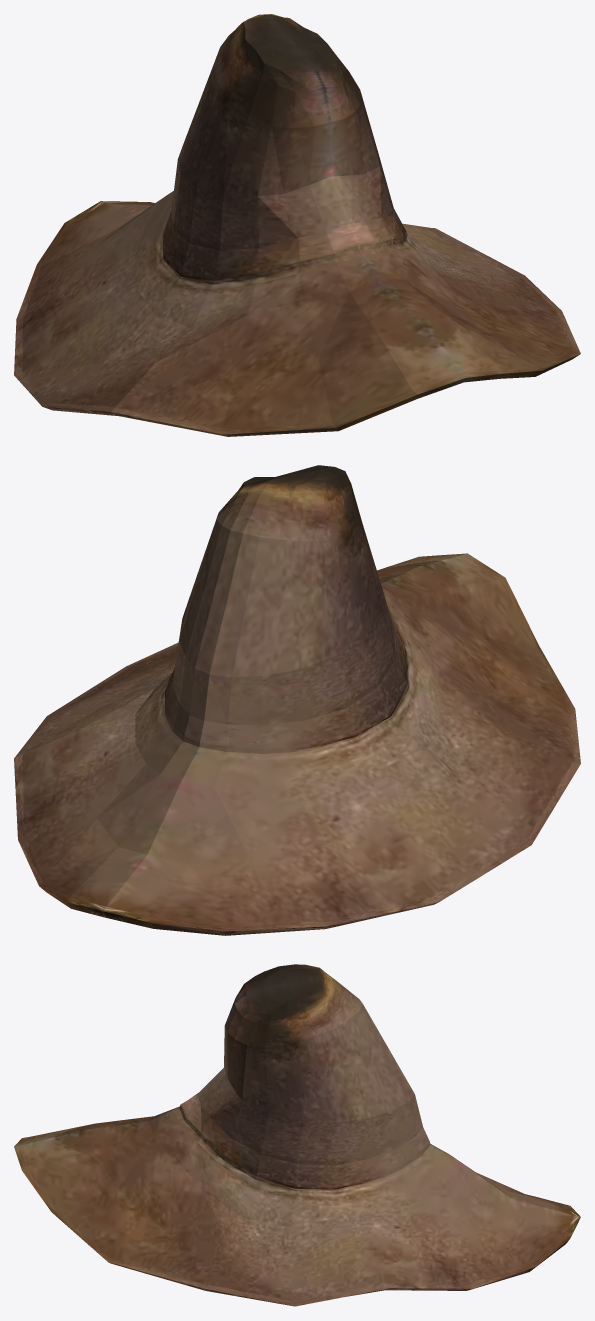
The model's file is CZAPKA.glb.
The picture shows the model from 3 angles, top to bottom: view 1: azimuth 30°, elevation 25°; view 2: azimuth 150°, elevation 25°; view 3: azimuth 270°, elevation 25°; orthographic projection. The views are drawn at different scales.
Visible parts, largest first — view 1: CZAPKA; view 2: CZAPKA; view 3: CZAPKA.
Part boxes in pixels (x1,y1,x2,y2): CZAPKA: (14, 14, 580, 436); CZAPKA: (14, 465, 580, 935); CZAPKA: (14, 964, 580, 1306).
Bounding box in the file's own units: 0.4641 × 0.3183 × 0.6068.
1 material, 1 textured.
